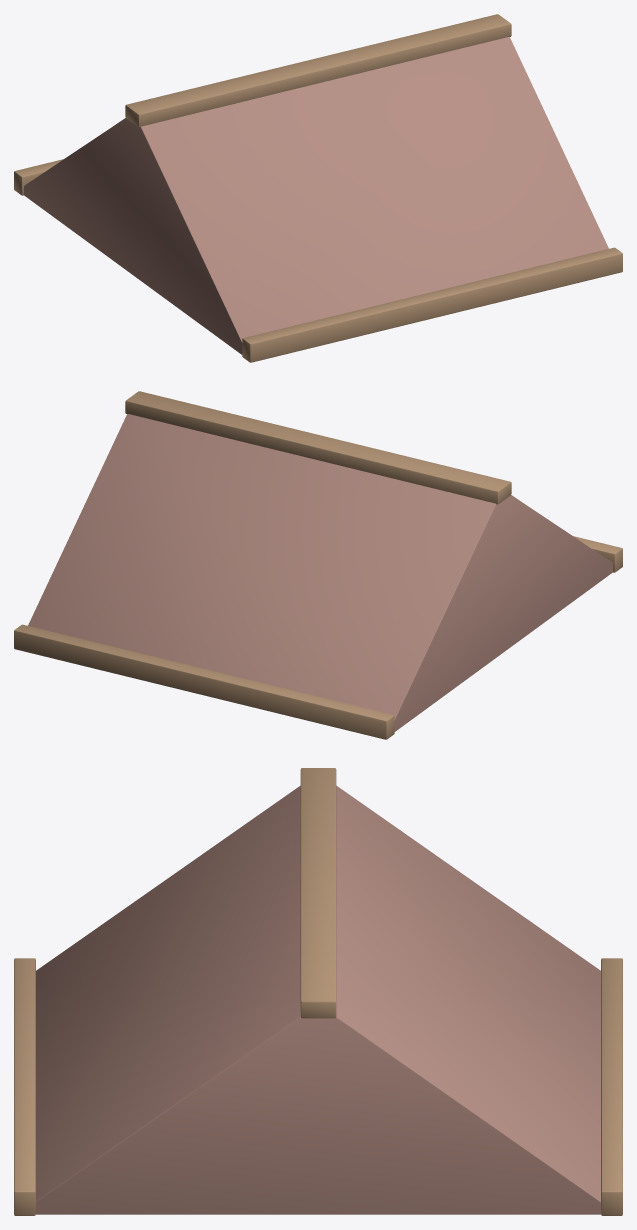
Rendered from th34_dach_sattel.glb.
The picture shows the model from 3 angles, top to bottom: view 1: azimuth 30°, elevation 25°; view 2: azimuth 150°, elevation 25°; view 3: azimuth 270°, elevation 25°; orthographic projection. The views are drawn at different scales.
Visible parts, largest first — view 1: Giebel, Cube, Cube.002, Cube.001; view 2: Giebel, Cube.001, Cube.002, Cube; view 3: Giebel, Cube.002, Cube, Cube.001.
Boxes of the visible parts, bbox=[...] form: Giebel: bbox=[24, 37, 608, 354]; Cube: bbox=[242, 247, 622, 362]; Cube.002: bbox=[125, 14, 511, 127]; Cube.001: bbox=[14, 159, 63, 195]; Giebel: bbox=[28, 414, 612, 731]; Cube.001: bbox=[14, 624, 394, 739]; Cube.002: bbox=[125, 391, 511, 504]; Cube: bbox=[573, 536, 622, 572]; Giebel: bbox=[36, 785, 600, 1214]; Cube.002: bbox=[300, 768, 336, 1018]; Cube: bbox=[14, 958, 35, 1215]; Cube.001: bbox=[601, 958, 622, 1215].
Bounding box in the file's own units: 4.04 × 1.73 × 4.44.
